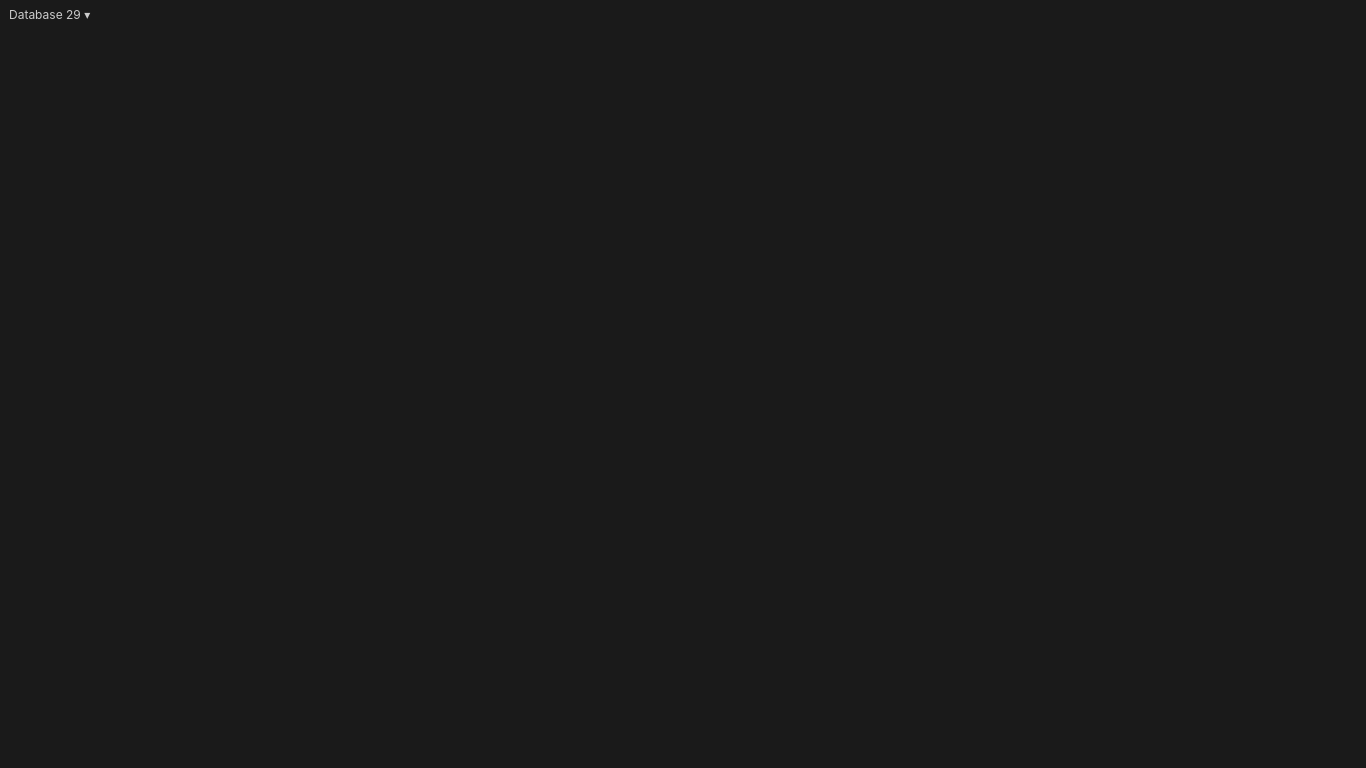
Test case: ConnectionManager bounded shortcuts › keeps stale rows reachable while a refresh error is visible
The image size is (1366, 768).
Later steps or results of the test are not shown.
Press Enter in the button with aria-label "Query connection", box top-left (0, 0), bottom-right (99, 28)
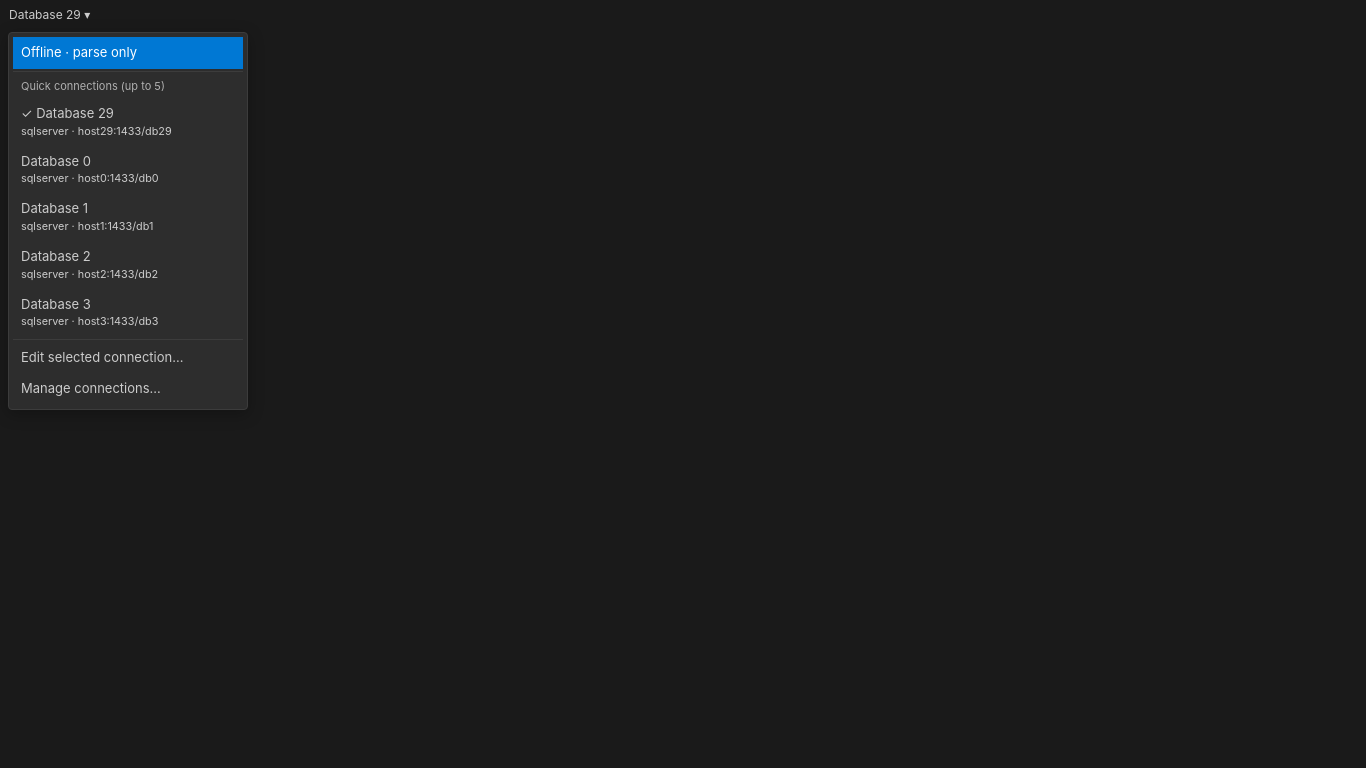
Click the menu item "Manage connections…" at (91, 388), box top-left (21, 380), bottom-right (161, 396)
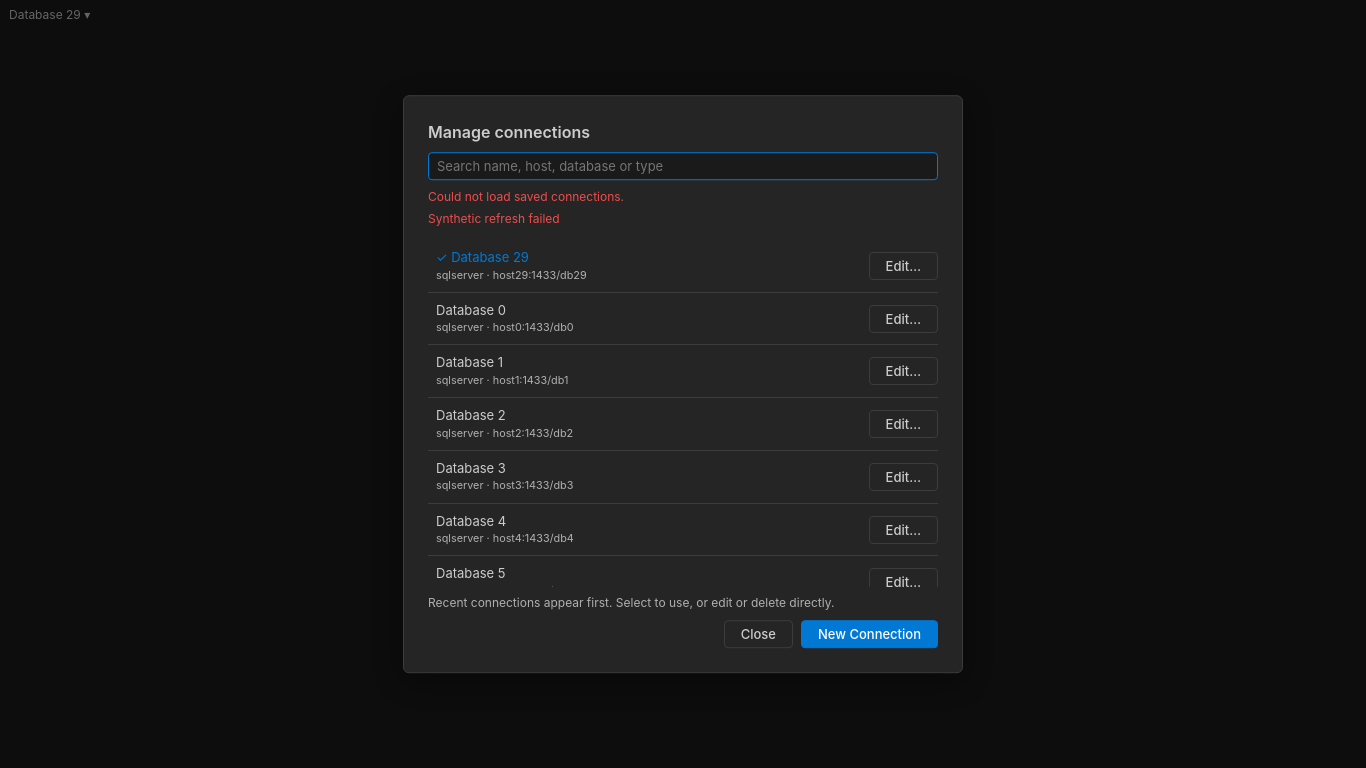
Expected: the message shows "Synthetic refresh failed", top-left (428, 211), bottom-right (560, 226)
